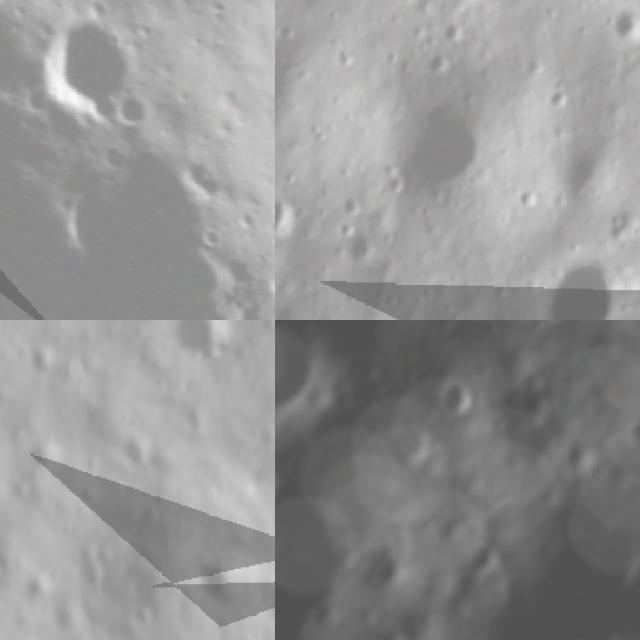crater: (20, 3, 156, 138), (390, 87, 510, 209), (541, 254, 640, 320), (275, 320, 331, 417), (556, 132, 630, 204), (195, 540, 263, 616), (0, 0, 38, 114), (166, 320, 246, 373), (389, 418, 434, 476), (112, 427, 157, 480), (335, 229, 383, 273), (275, 182, 305, 251), (606, 1, 640, 52), (435, 378, 482, 409), (0, 542, 17, 609), (222, 0, 275, 19), (469, 548, 496, 574), (633, 413, 640, 450)
